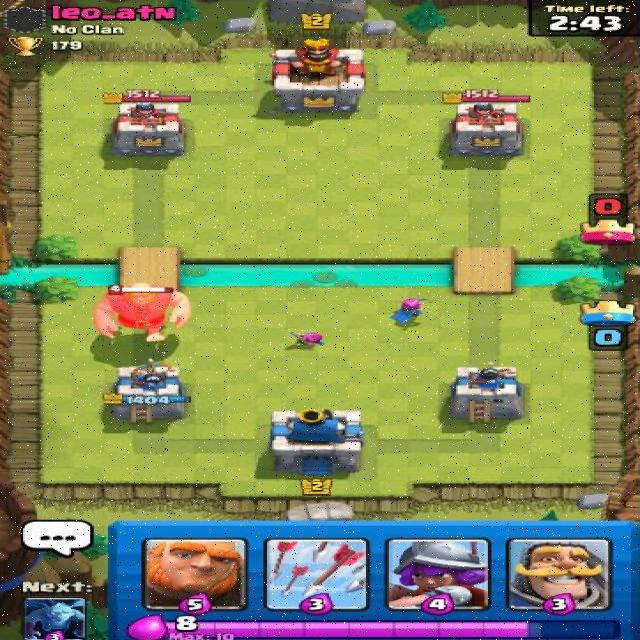Enemy-Giant: (94, 282, 196, 345)
Player-Archer: (382, 294, 435, 331), (285, 327, 327, 352)
